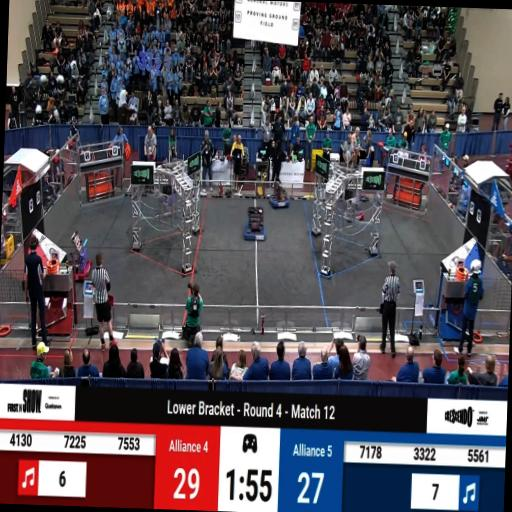robot: (63, 234, 92, 282), (243, 206, 267, 240), (270, 184, 290, 209)
